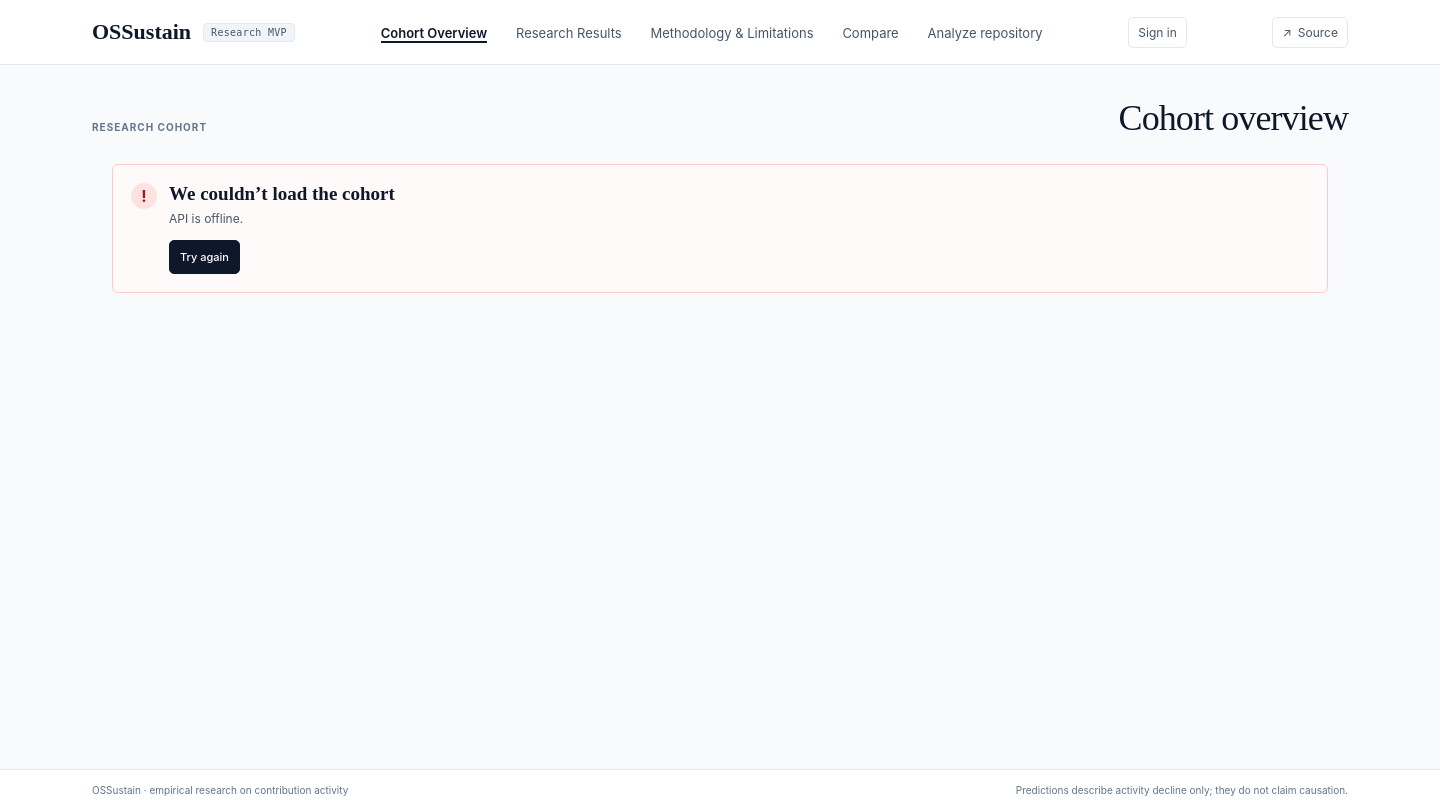
Test: Dashboard screens › shows an error and retries successfully when requested
Expected: the heading "We couldn’t load the cohort" is shown, [169, 183, 395, 205]
Expected: the text "API is offline." is shown, [169, 211, 243, 226]
Click the button "Try again".
click(204, 257)  # box [169, 240, 240, 274]
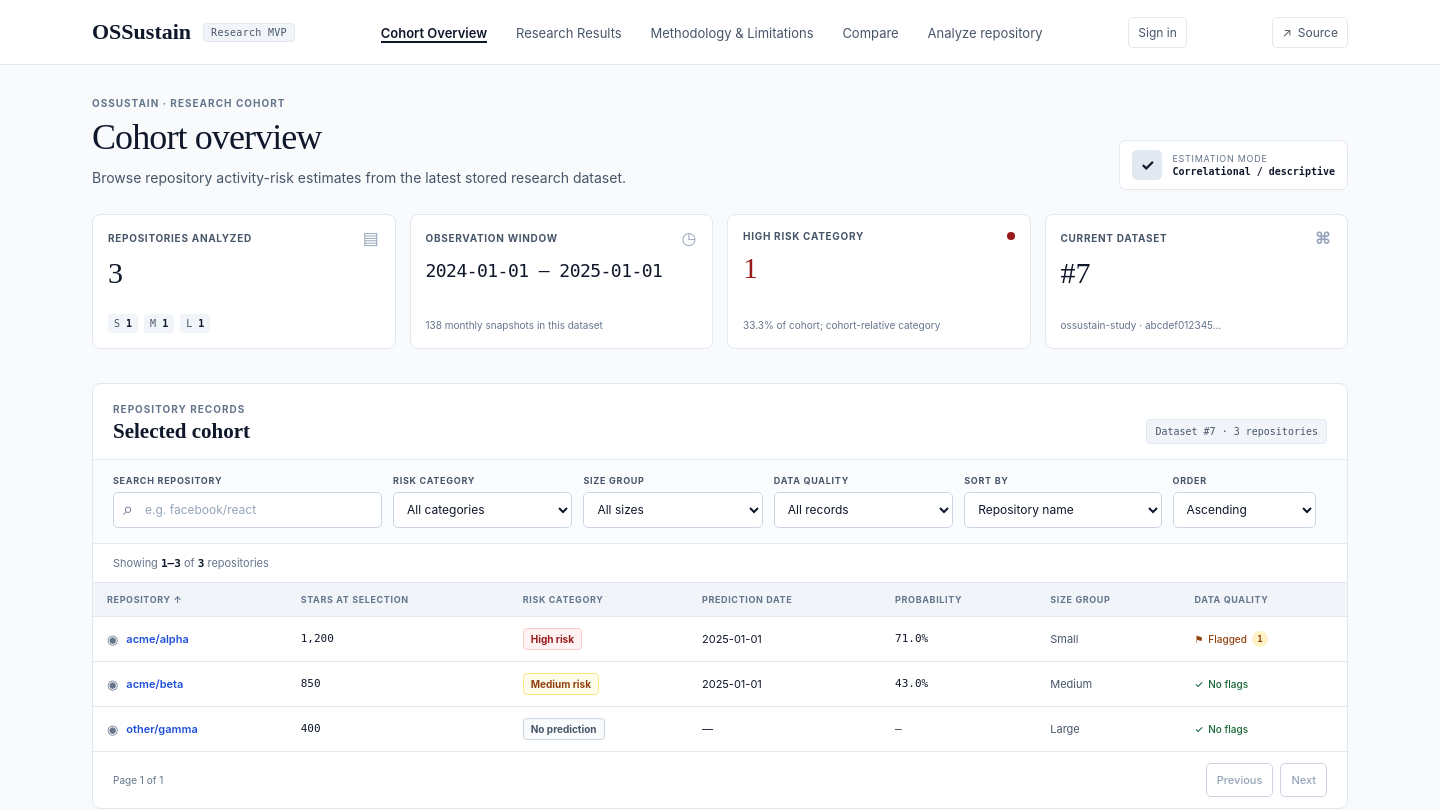
Expected: the link "◉ acme/alpha" is shown, [107, 631, 189, 647]
